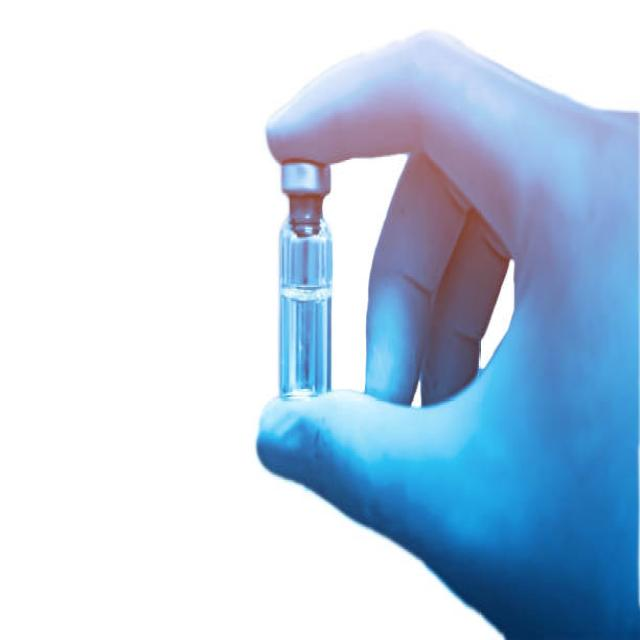B3: (256, 105, 370, 427)
